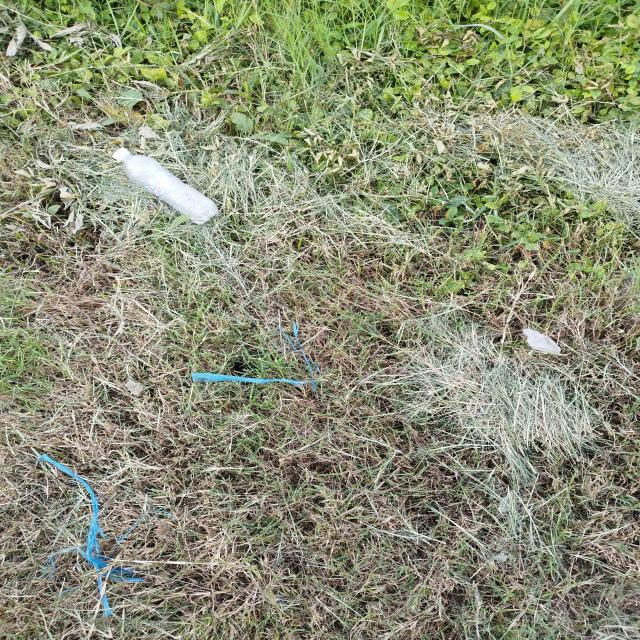bottle: (112, 147, 218, 225)
